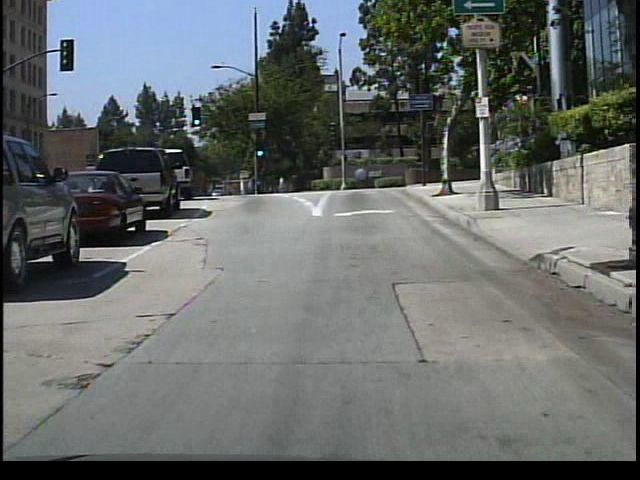person: (244, 168, 261, 197), (274, 170, 290, 195)
